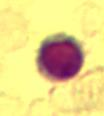lymphocyte: (32, 28, 87, 82)
